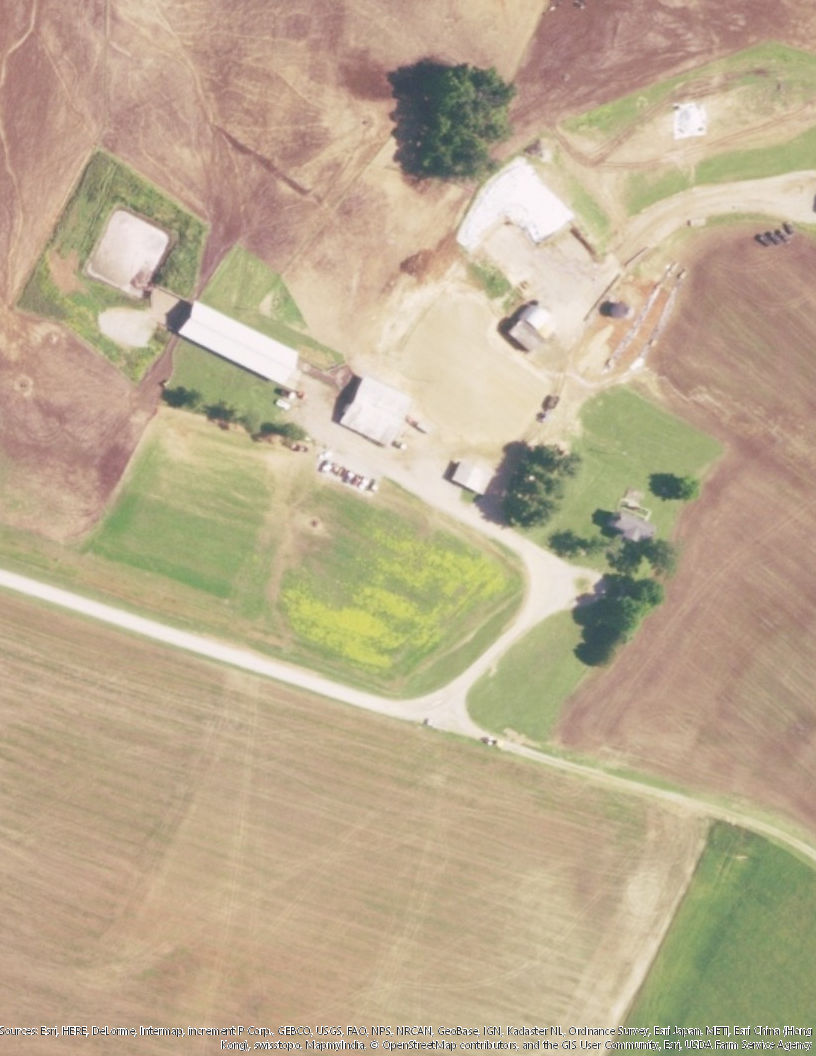cafo: (175, 298, 302, 386)
